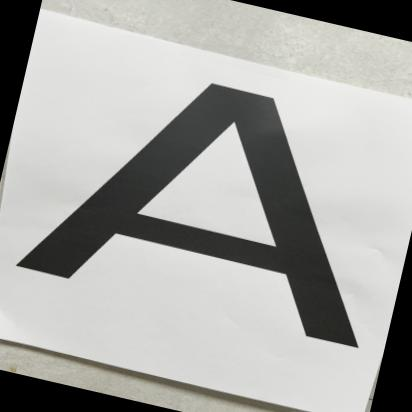seat: (0, 31, 412, 369)
